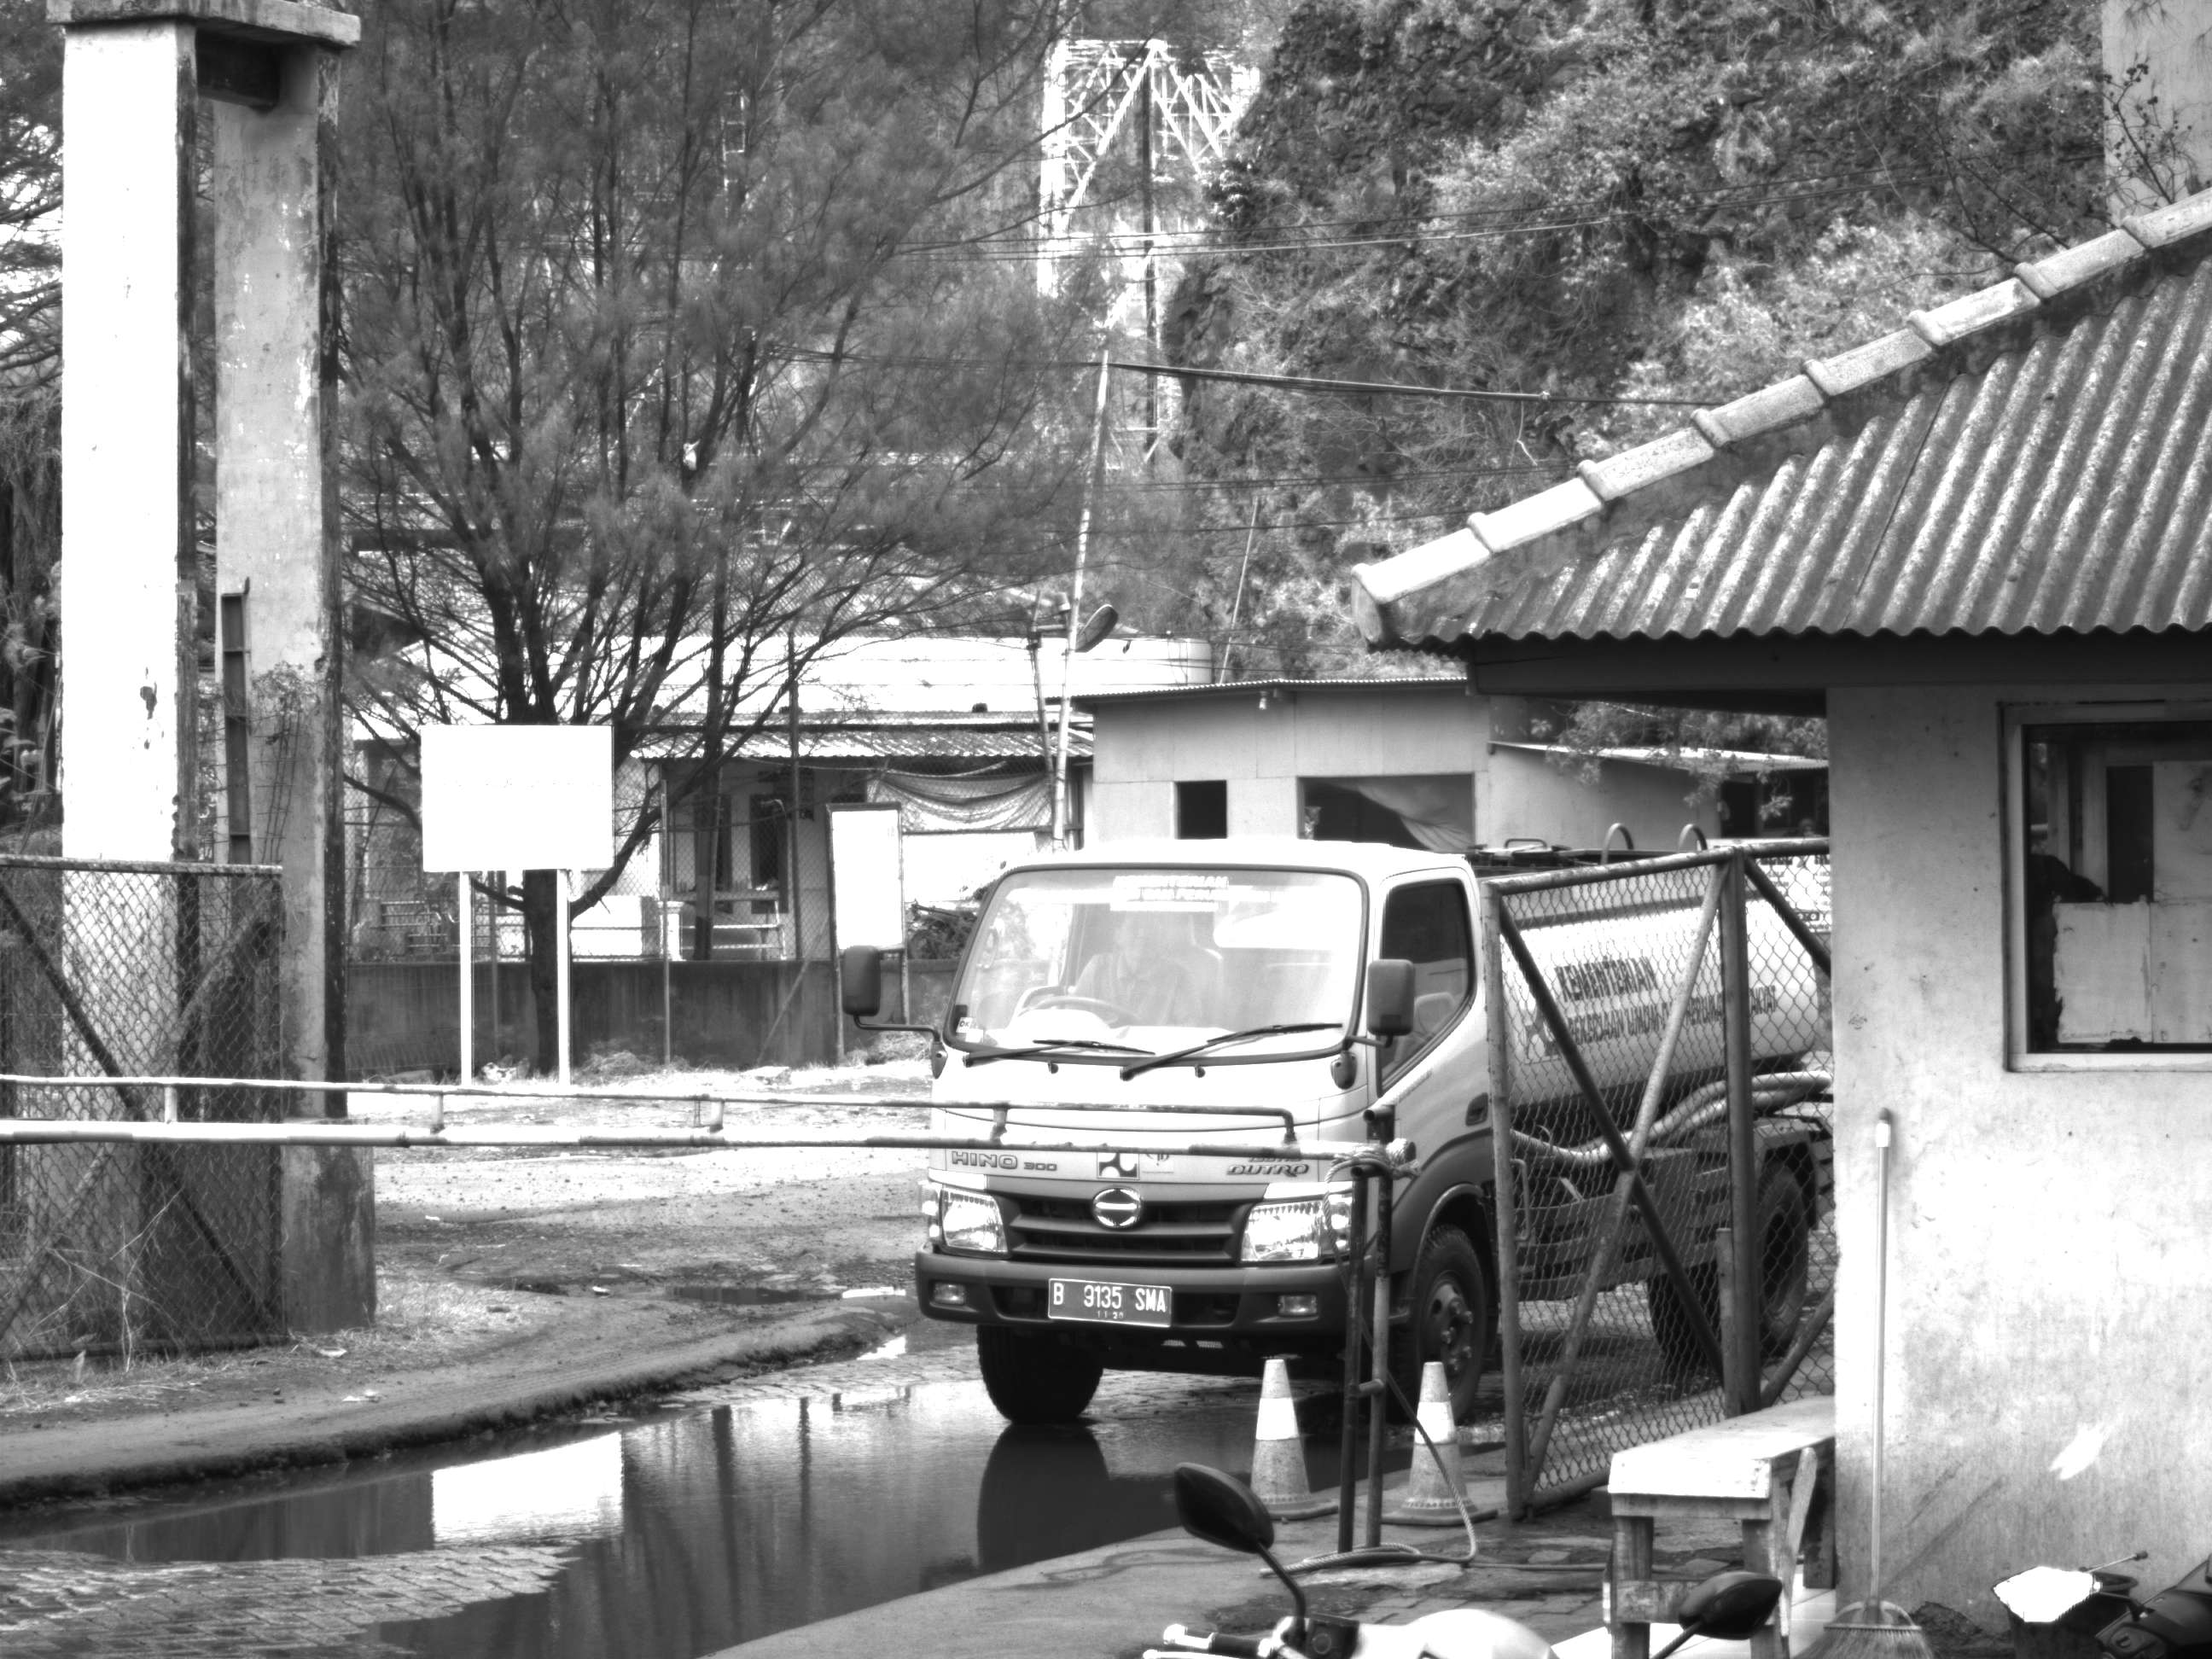day_truck_front: (896, 864, 1516, 1456)
plate: (1045, 1275, 1172, 1324)
